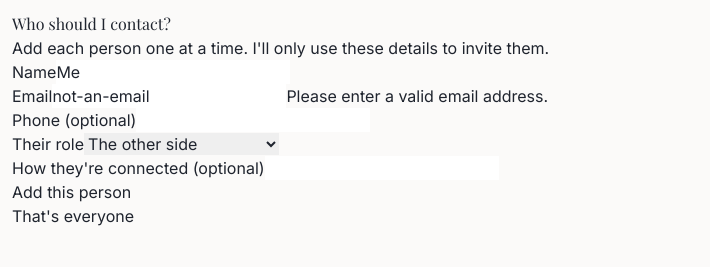
Scenario: Party form card › validates email, rejects own email and duplicates
Earlier steps of the test are not shown.
Step 1. Replace the text in the field labelled "Email" with "Alice@Example.com" → {"x": 169, "y": 96}, box [52, 84, 286, 108]
Step 2. Click the button "Add this person" → {"x": 72, "y": 192}, box [12, 180, 131, 204]
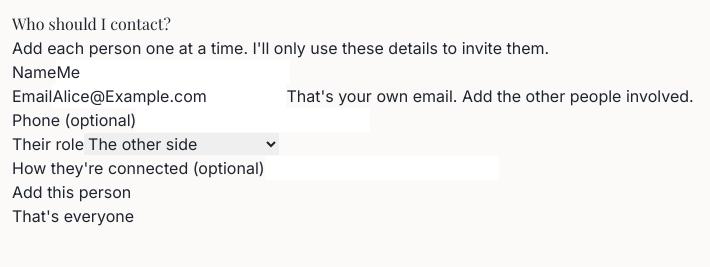
expect the text "That's your own email. Add the other people involved." is shown: met, box [286, 86, 694, 106]
Step 3. Replace the text in the field labelled "Name" with "Bob" → {"x": 173, "y": 72}, box [56, 60, 290, 84]
Step 4. Replace the text in the field labelled "Email" with "bob@example.com" → {"x": 169, "y": 96}, box [52, 84, 286, 108]
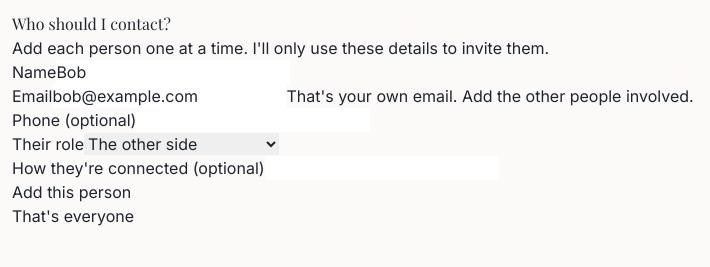
Step 5. Click the button "Add this person" → {"x": 72, "y": 192}, box [12, 180, 131, 204]
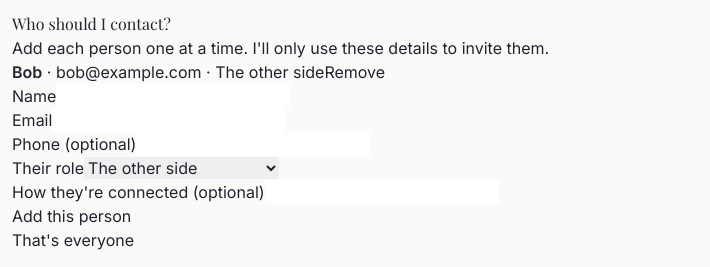
Step 6. Type "Bob again" into the field labelled "Name" → {"x": 173, "y": 96}, box [56, 84, 290, 108]
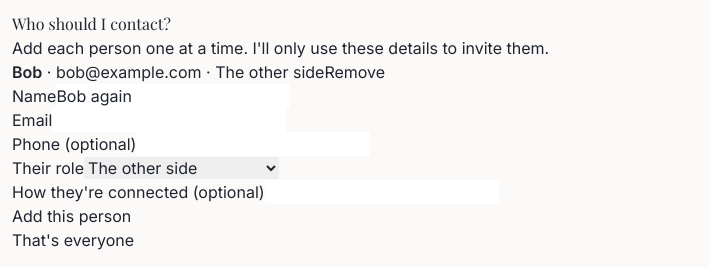
Step 7. Type "BOB@example.com " into the field labelled "Email" → {"x": 169, "y": 120}, box [52, 108, 286, 132]
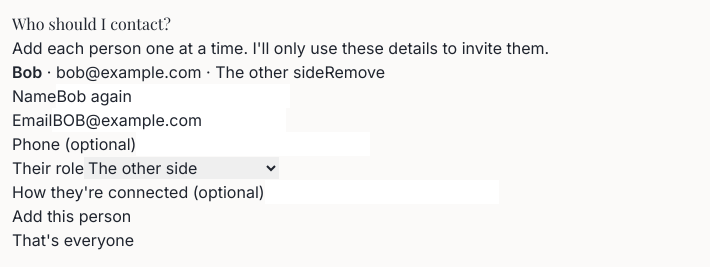
Step 8. Click the button "Add this person" → {"x": 72, "y": 216}, box [12, 204, 131, 228]
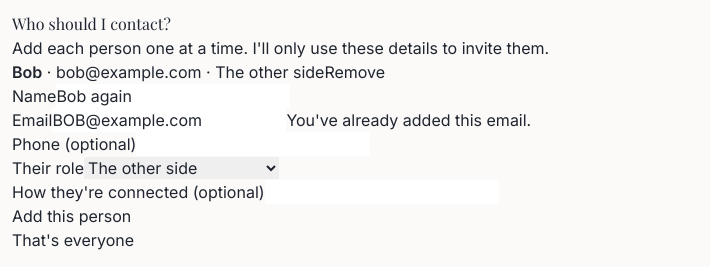
expect the text "You've already added this email." is shown: met, box [286, 110, 531, 130]
